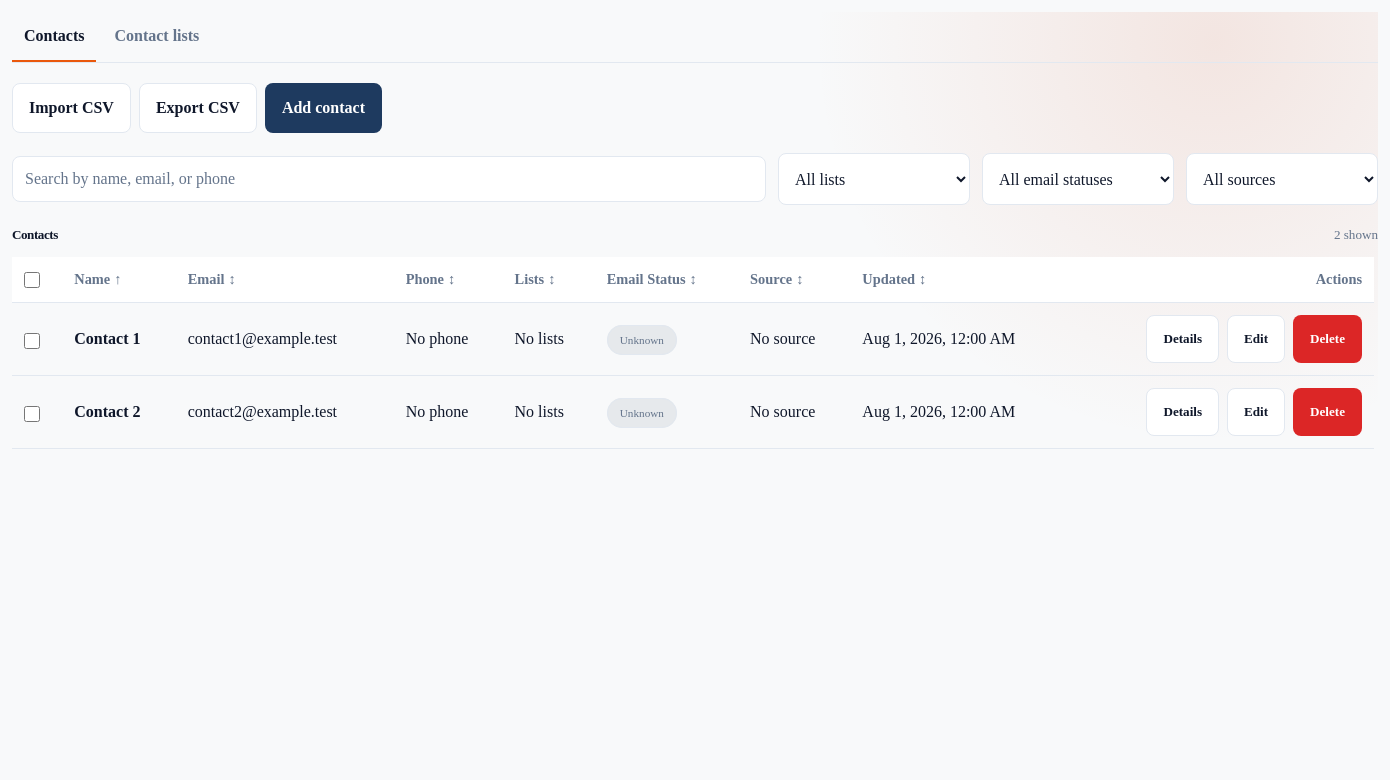
Test: requires a destination list before adding or removing selected contacts
Click the checkbox named "Select all matching contacts": (32, 280) [24,272,40,288]
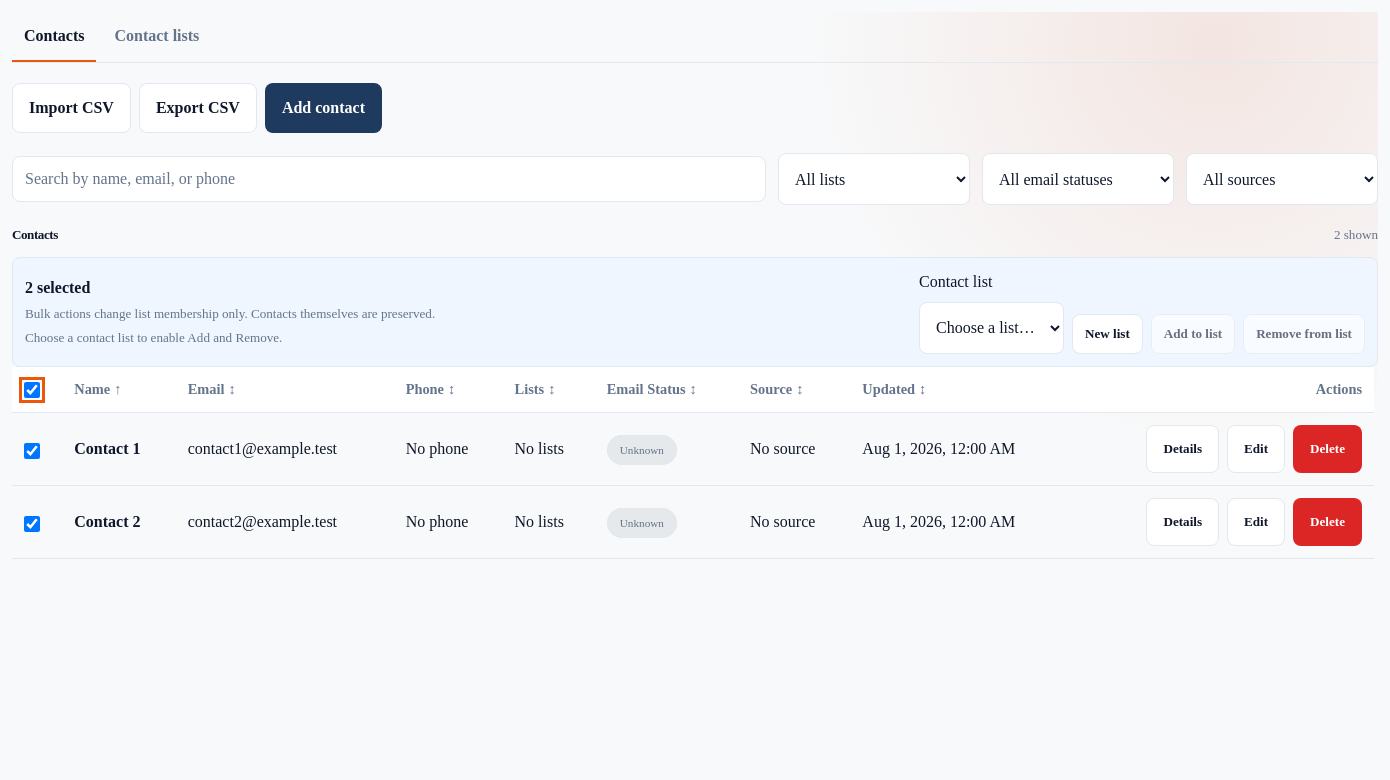
Expected: the button "Add to list" is disabled, [1151,314,1235,354]
Expected: the button "Remove from list" is disabled, [1243,314,1365,354]
Select "Newsletter" in the dropdown labelled "Contact list": (992, 328) [919,302,1064,354]
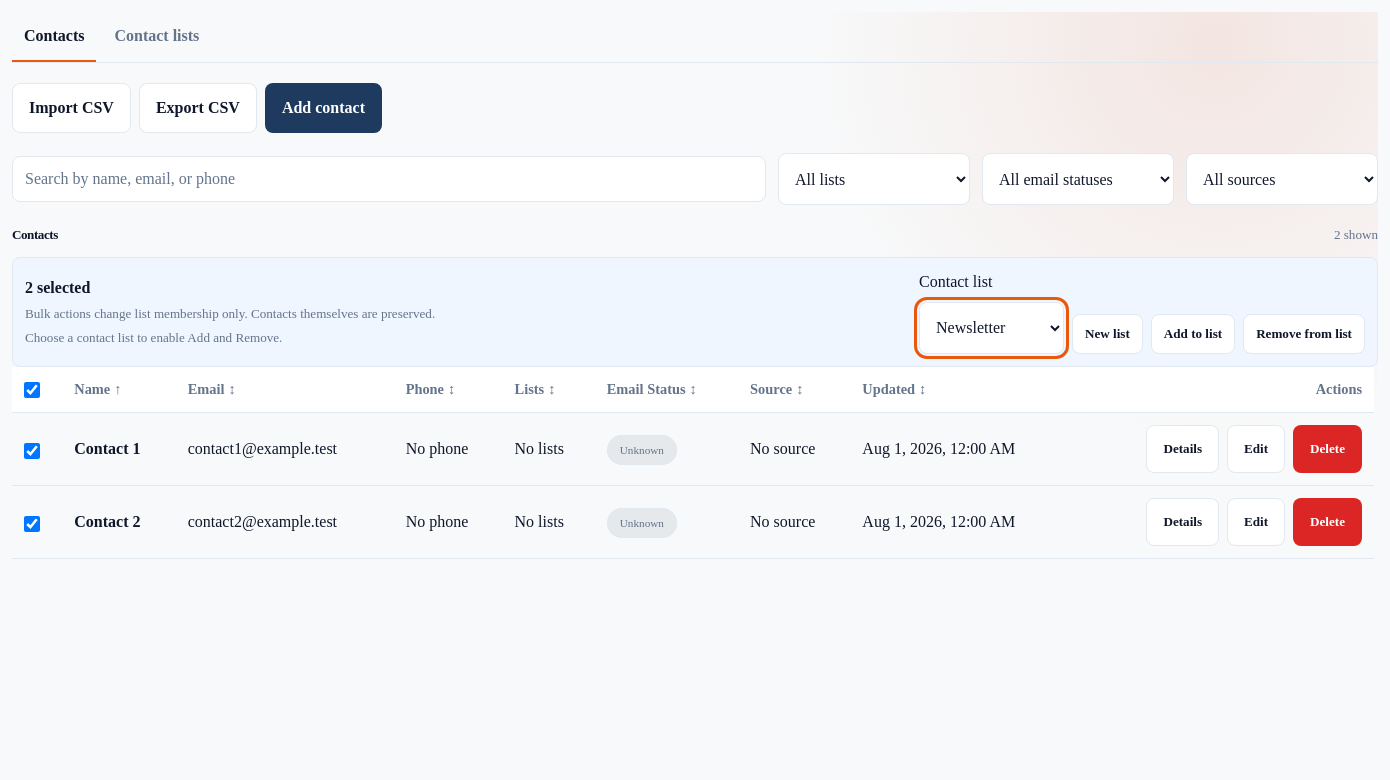
Click the button "Add to list": (1193, 334) [1151,314,1235,354]
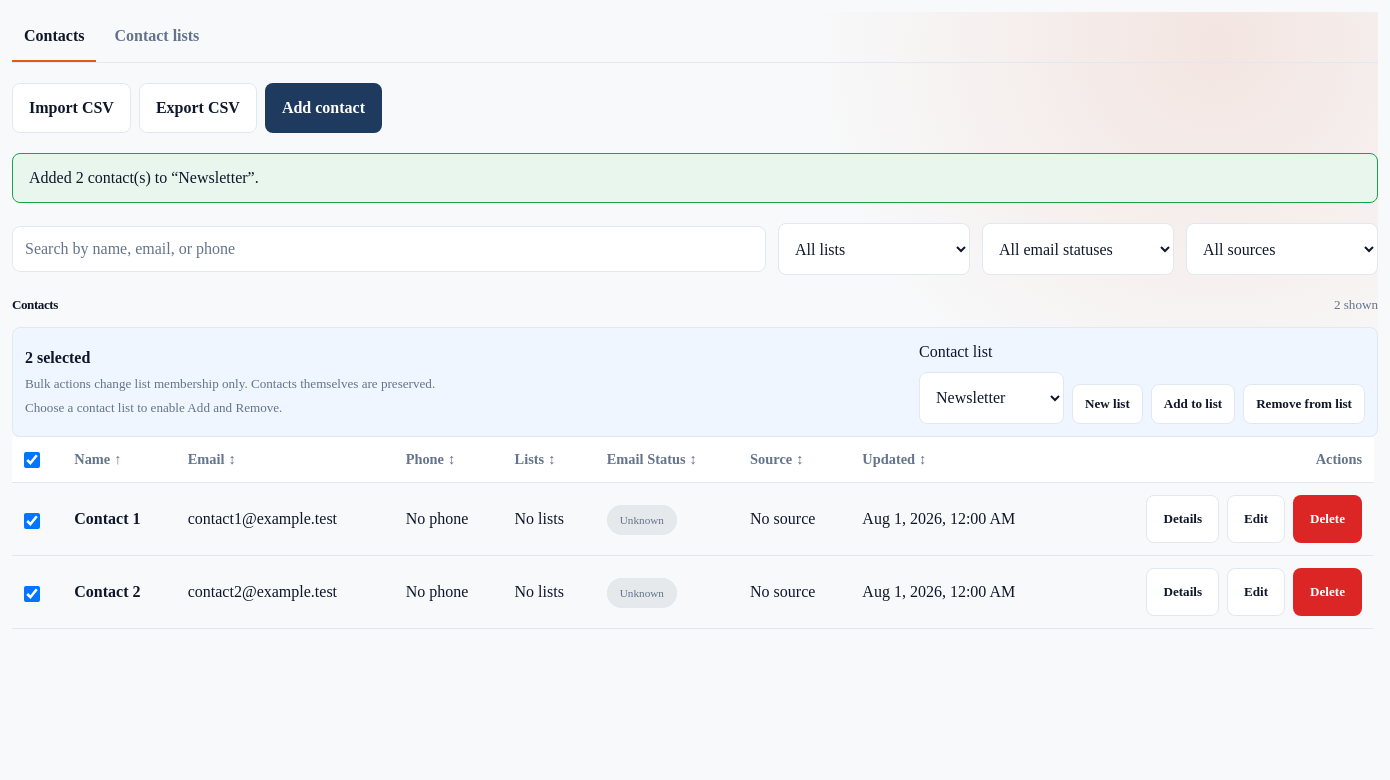
Expected: the text "Added 2 contact(s) to “Newsletter”." is shown, [12,153,1378,203]
Click the button "Remove from list": (1304, 404) [1243,384,1365,424]
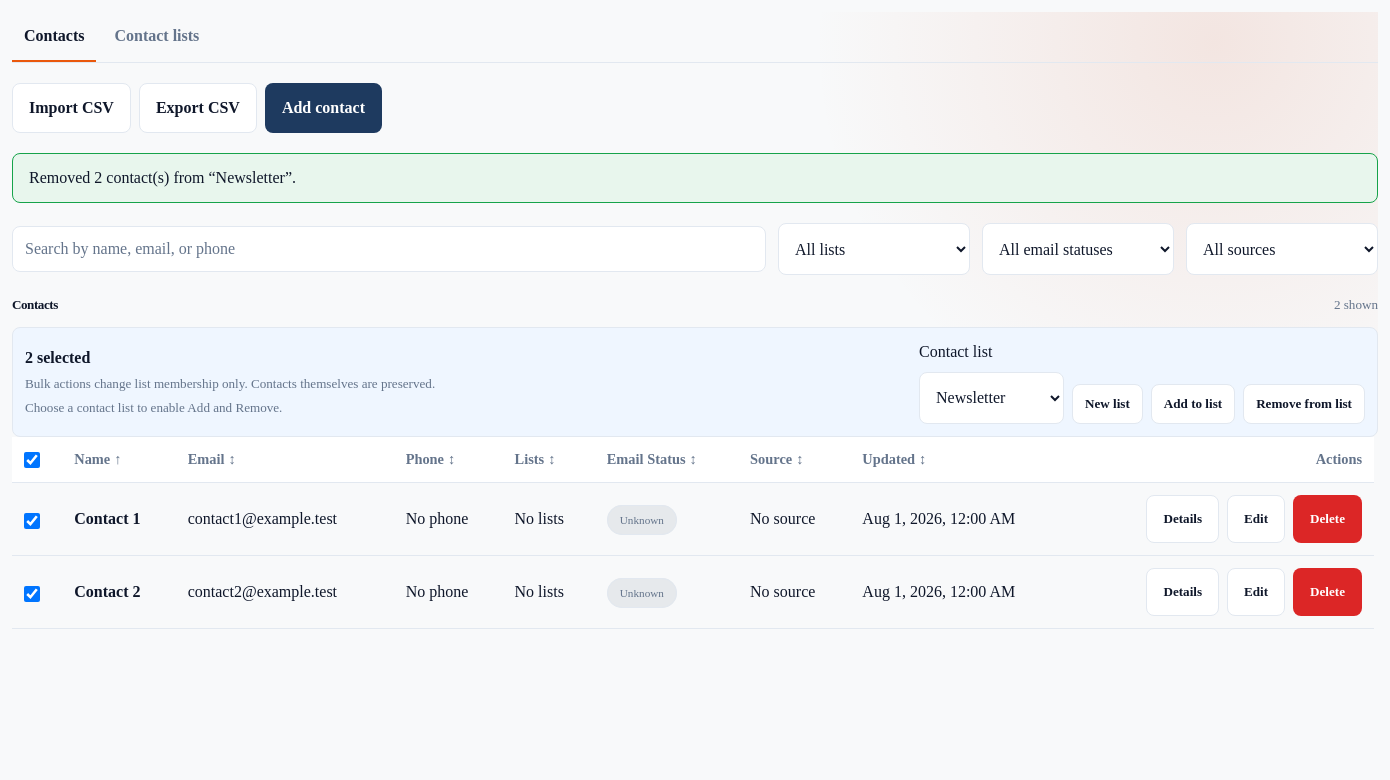
Select "Choose a list…" in the dropdown labelled "Contact list": (992, 398) [919,372,1064,424]
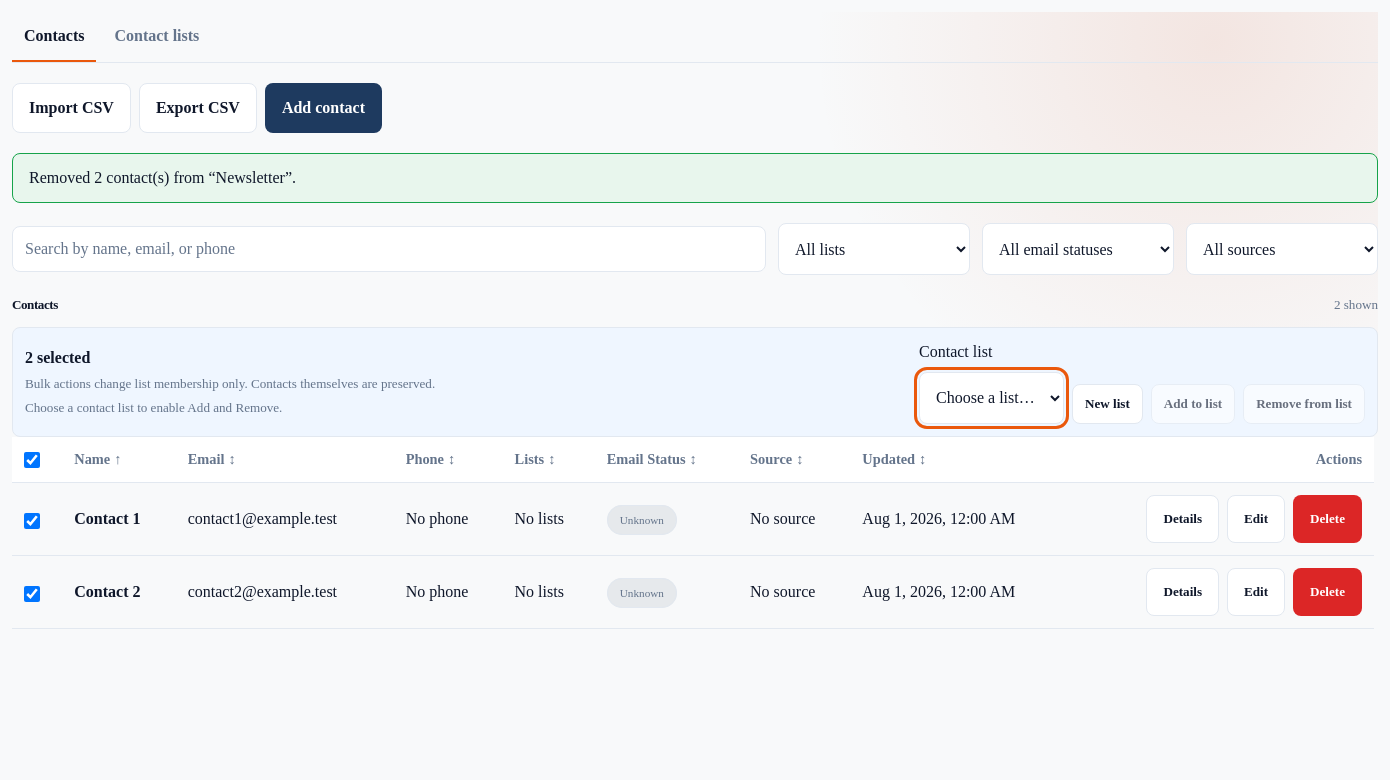
Expected: the button "Add to list" is disabled, [1151,384,1235,424]
Expected: the button "Remove from list" is disabled, [1243,384,1365,424]
